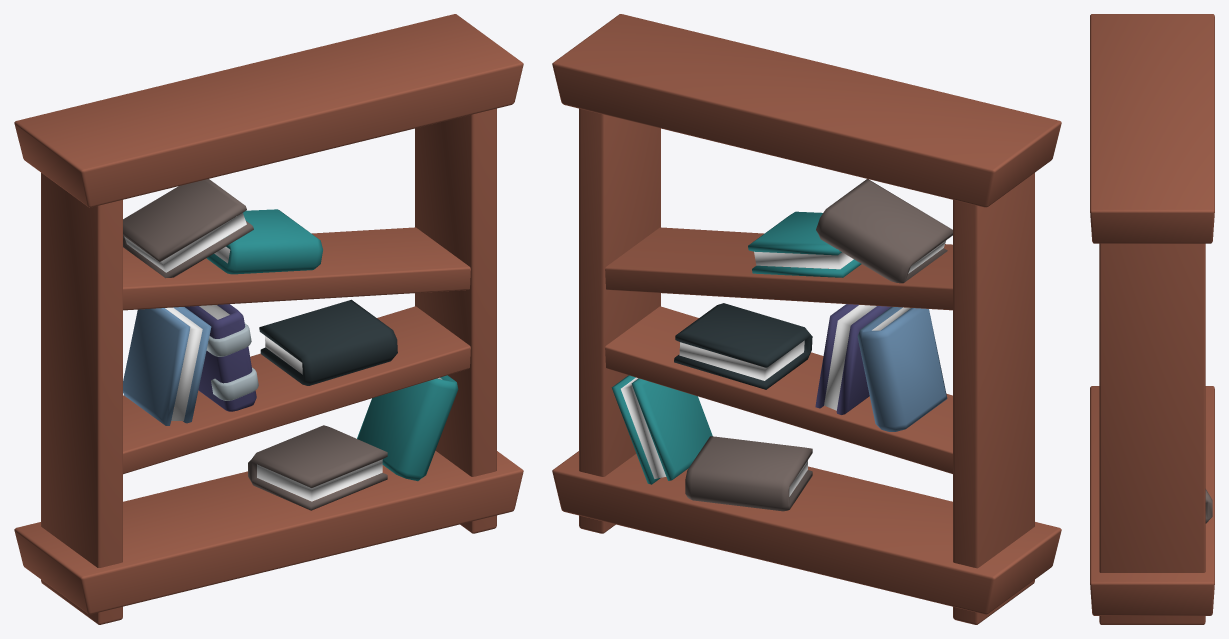
Rendered from bookshelf.gltf.
3 views of the same model, side by side, from view 1: azimuth 30°, elevation 25°; view 2: azimuth 150°, elevation 25°; view 3: azimuth 270°, elevation 25° (orthographic). The views are drawn at different scales.
Visible parts, largest first — view 1: bookcaseWideFilled_broken; view 2: bookcaseWideFilled_broken; view 3: bookcaseWideFilled_broken.
Boxes of the visible parts, x1,y1,x2,y2 form: bookcaseWideFilled_broken: [14, 14, 523, 624]; bookcaseWideFilled_broken: [552, 14, 1061, 624]; bookcaseWideFilled_broken: [1090, 14, 1214, 624].
Bounding box in the file's own units: 1.99 × 2 × 0.5329.
